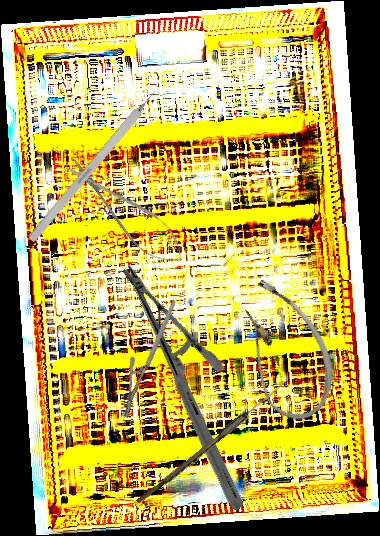Cannula: (212, 268, 354, 432)
Hook Surgical: (27, 77, 169, 243)
Micro Scissor: (57, 149, 194, 275)
Needle Holder: (48, 263, 318, 512), (92, 299, 208, 421)
Surgical Spoon: (136, 379, 286, 508)
